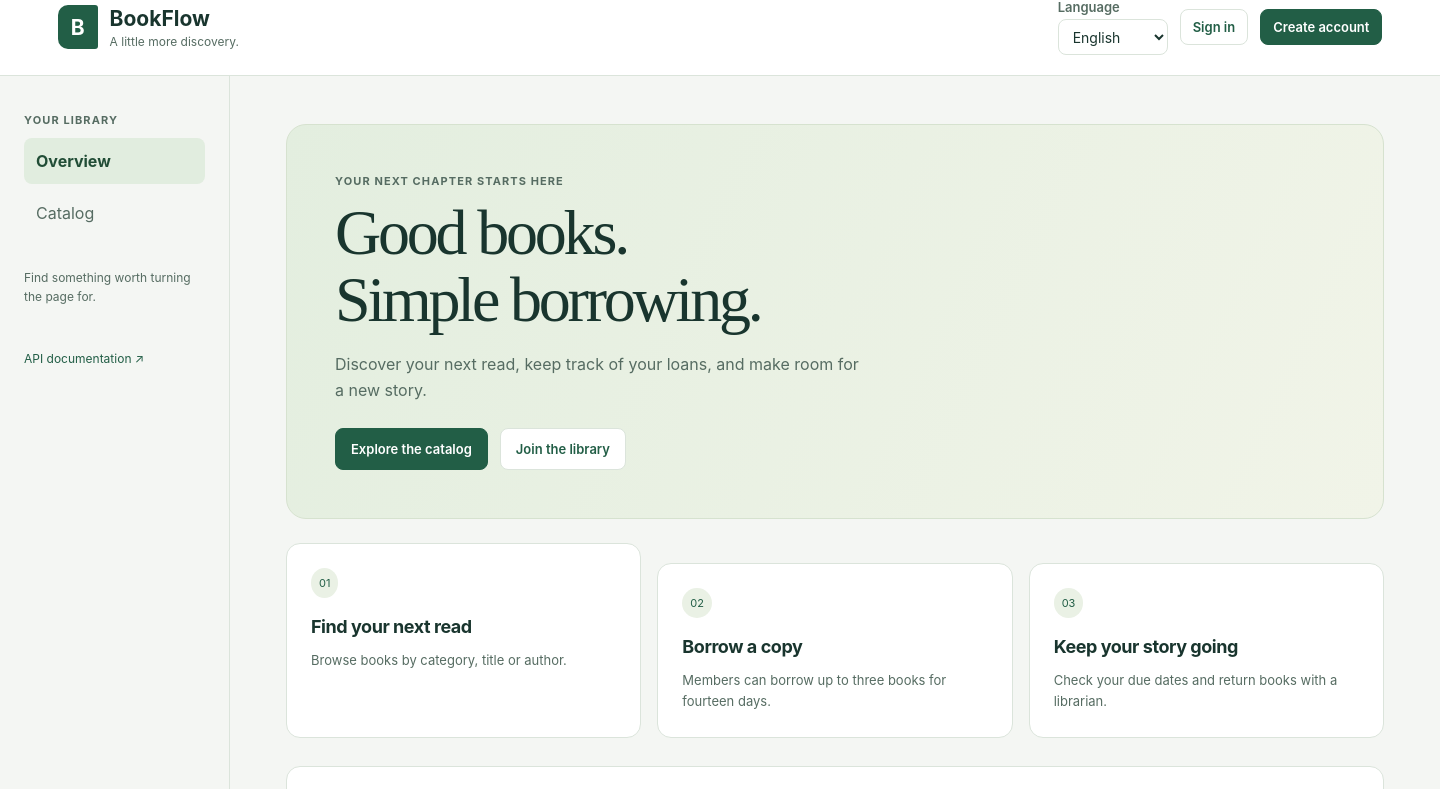
Scenario: website language › translates API errors already displayed without repeating a request
The width and height of the screenshot is (1440, 789).
Select "Tiếng Việt" in the dropdown labelled "Language": (1113, 37) [1058,19,1168,55]
(page scrolled)
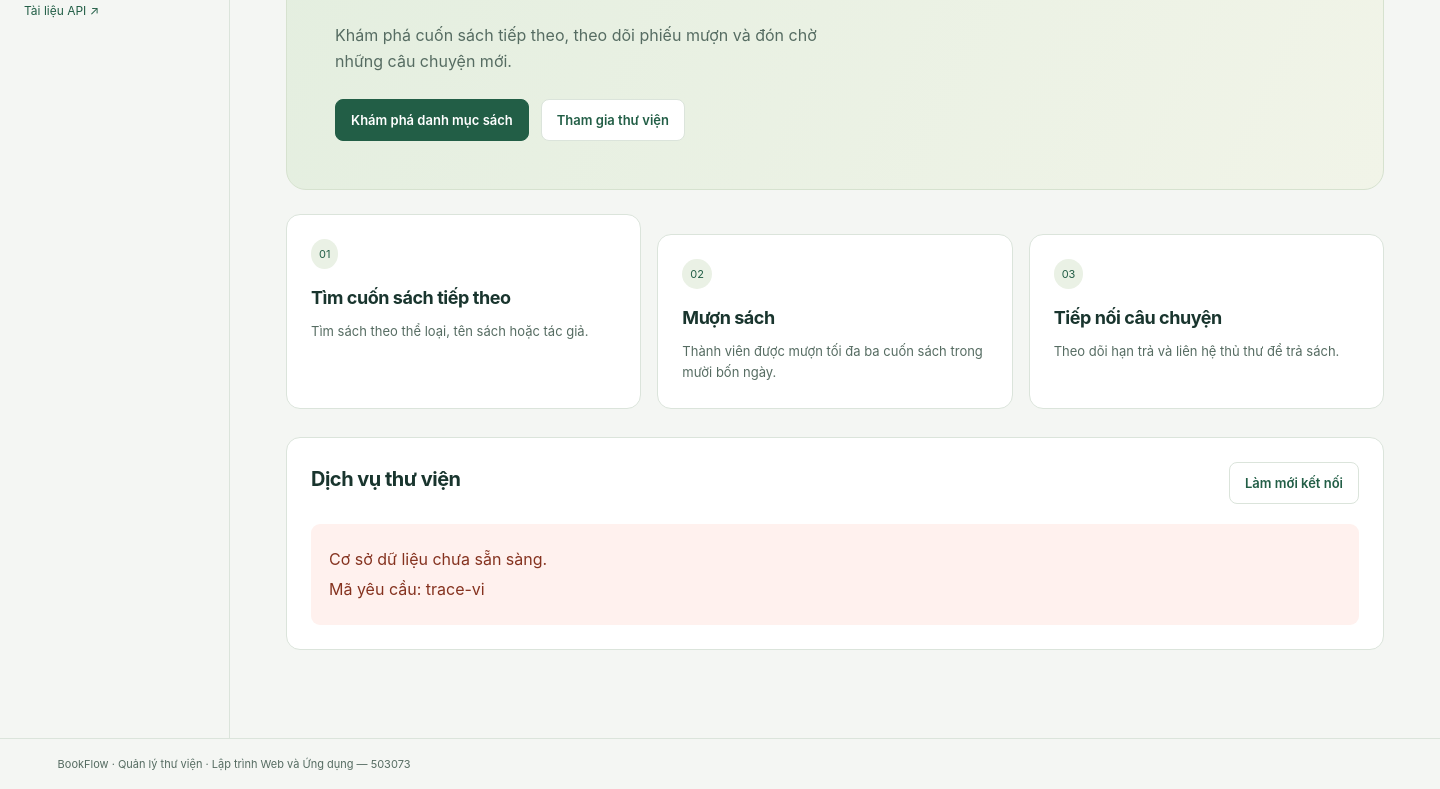
Expected: the message shows "Cơ sở dữ liệu chưa sẵn sàng.", [329,549,547,569]
Expected: the message shows "Mã yêu cầu: trace-vi", [329,579,485,599]
